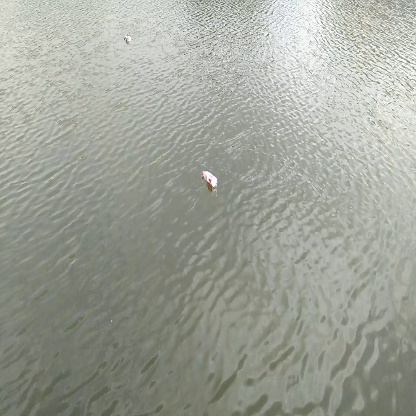bottle: (200, 165, 219, 190)
